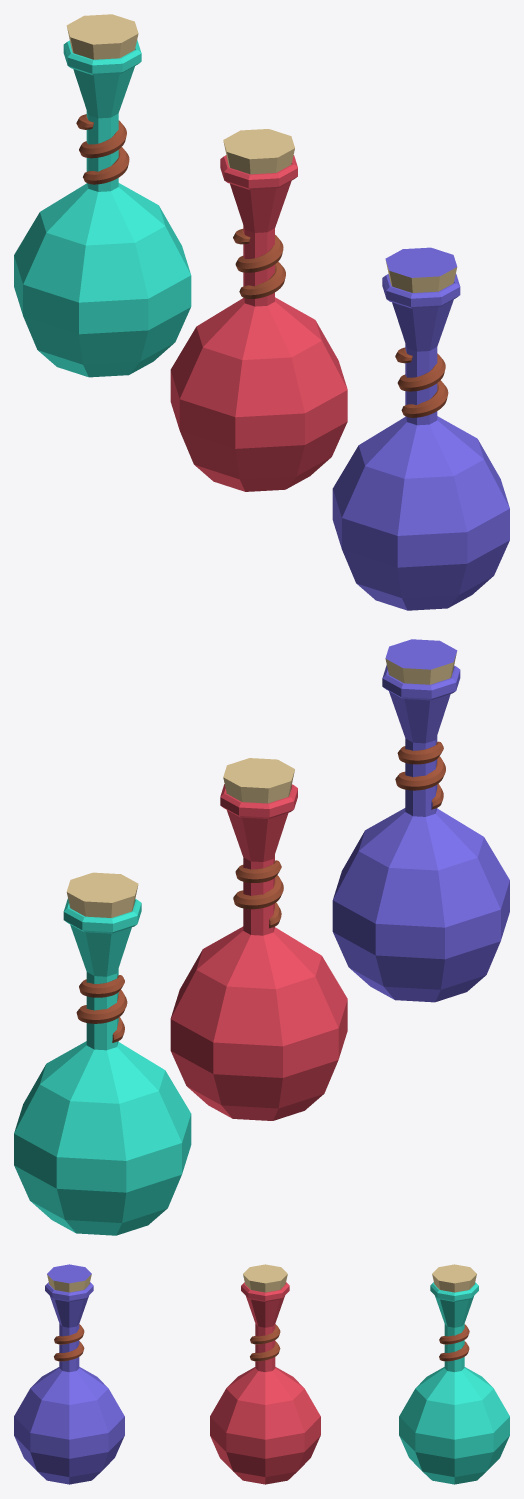
The model's file is Potions.fbx.
The picture shows the model from 3 angles, top to bottom: view 1: azimuth 30°, elevation 25°; view 2: azimuth 150°, elevation 25°; view 3: azimuth 270°, elevation 25°; orthographic projection. The views are drawn at different scales.
Visible parts, largest first — view 1: Bottle, Mana Potion, Health Potion; view 2: Bottle, Mana Potion, Health Potion; view 3: Bottle, Mana Potion, Health Potion.
Boxes of the visible parts, x1=… form: Bottle: x1=14, y1=14, x2=191, y2=377; Mana Potion: x1=332, y1=247, x2=509, y2=610; Health Potion: x1=170, y1=129, x2=347, y2=491; Bottle: x1=14, y1=872, x2=191, y2=1235; Mana Potion: x1=332, y1=639, x2=509, y2=1002; Health Potion: x1=170, y1=758, x2=347, y2=1120; Bottle: x1=399, y1=1264, x2=509, y2=1484; Mana Potion: x1=14, y1=1264, x2=124, y2=1484; Health Potion: x1=210, y1=1264, x2=320, y2=1484.
Size of the model in its own units: 255 by 501 by 1141.
